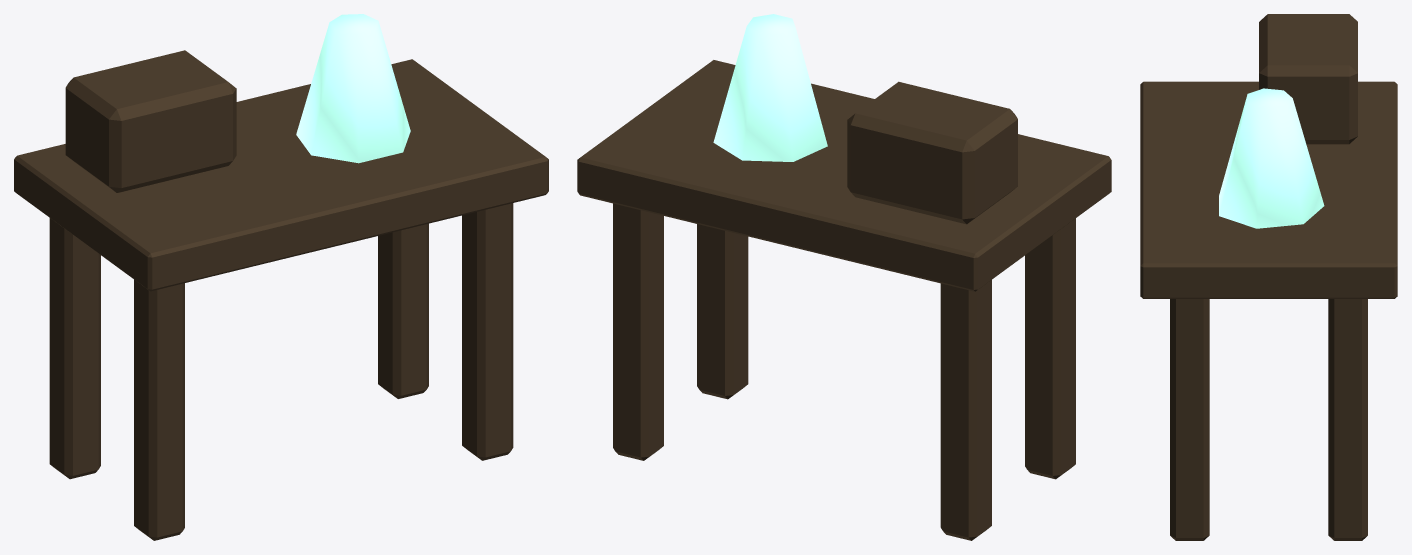
File: prp_station_alchemy.glb
The picture shows the model from 3 angles, left to right: view 1: azimuth 30°, elevation 25°; view 2: azimuth 150°, elevation 25°; view 3: azimuth 270°, elevation 25°; orthographic projection. The views are drawn at different scales.
Visible parts, largest first — view 1: prp_station_alchemy; view 2: prp_station_alchemy; view 3: prp_station_alchemy.
Part boxes in pixels (<box>): prp_station_alchemy: <box>14,14,548,540</box>; prp_station_alchemy: <box>577,14,1111,540</box>; prp_station_alchemy: <box>1140,14,1397,540</box>.
Bounding box in the file's own units: 1.1 × 1.1 × 0.65.
